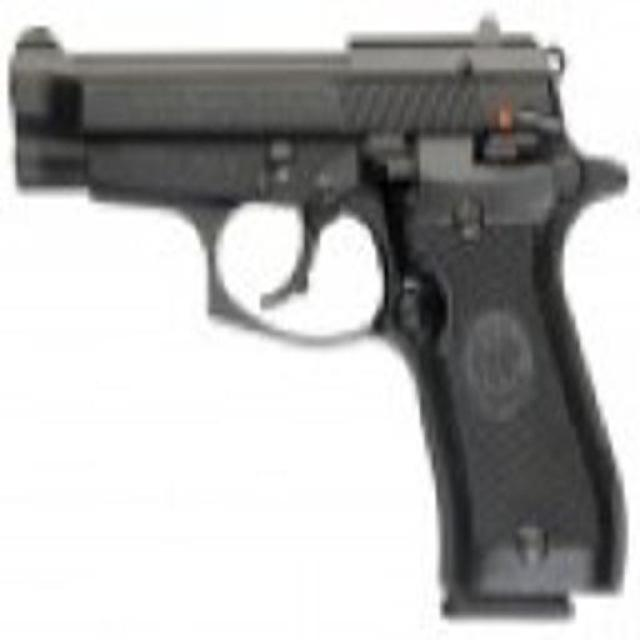pistol: (11, 21, 620, 629)
